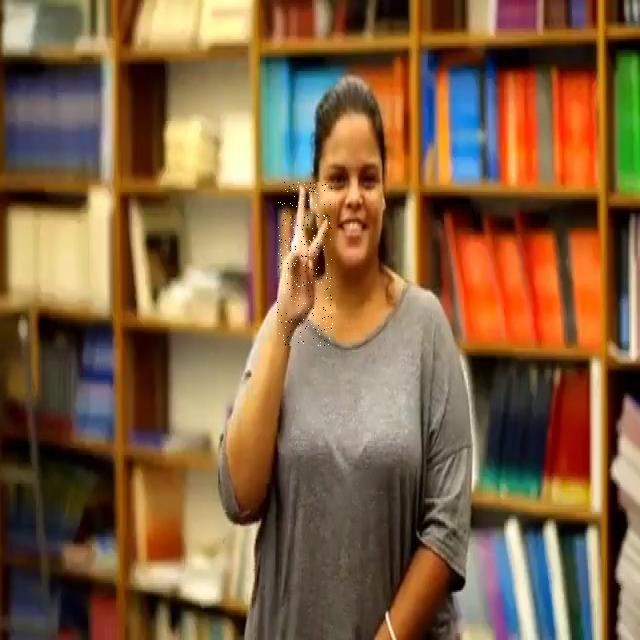vegetables: (278, 182, 334, 346)
